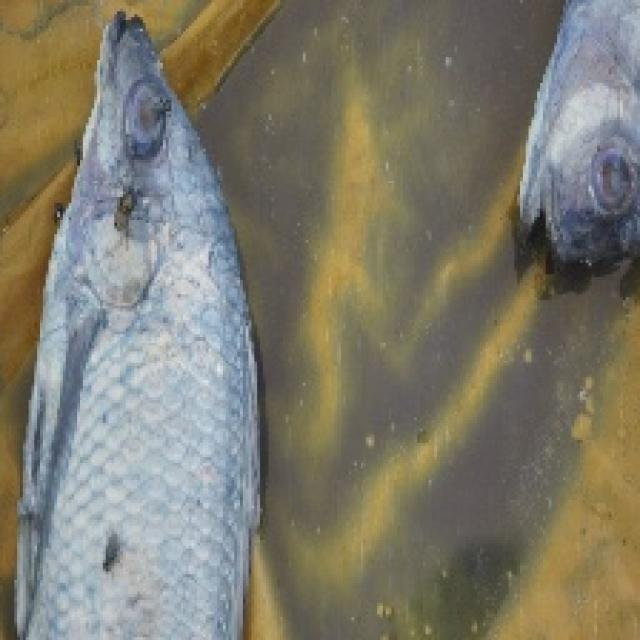Non-Fresh: (38, 9, 279, 625), (576, 111, 640, 232)
